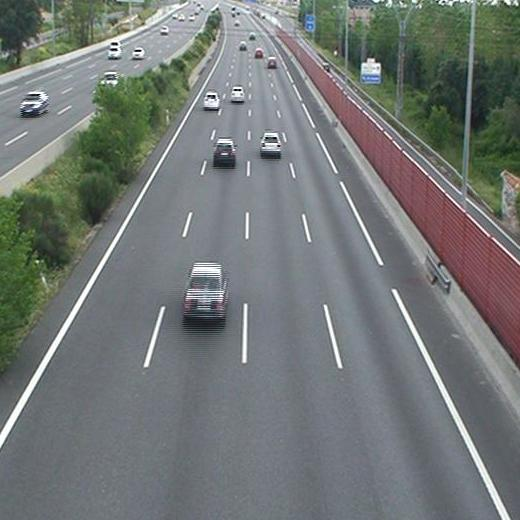car: (184, 263, 226, 319), (213, 140, 236, 164), (261, 134, 281, 155), (203, 92, 219, 108), (230, 87, 245, 102), (266, 56, 276, 68), (255, 47, 264, 60), (239, 41, 247, 51)
